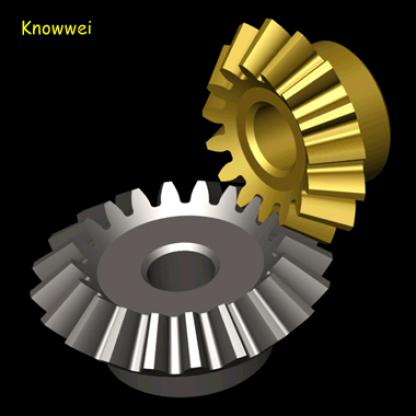FOD: (27, 175, 338, 401), (199, 15, 393, 246)
